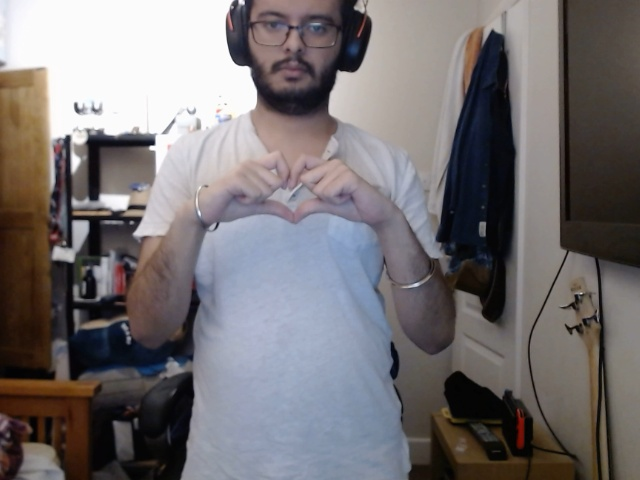Heart: (198, 147, 385, 230)
